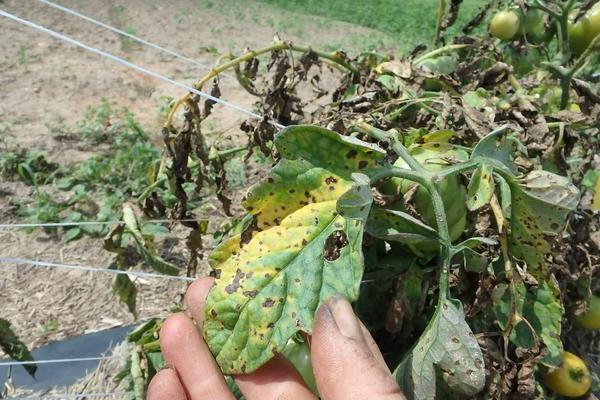Tomato Septoria leaf spot: (201, 120, 383, 374), (497, 158, 577, 278), (404, 299, 483, 387)
